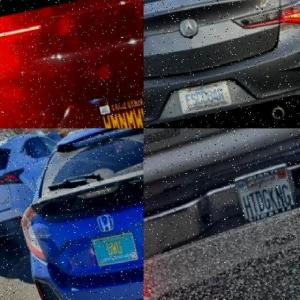Plate: (233, 161, 298, 224), (93, 91, 144, 128), (178, 79, 232, 113), (92, 230, 139, 265)
